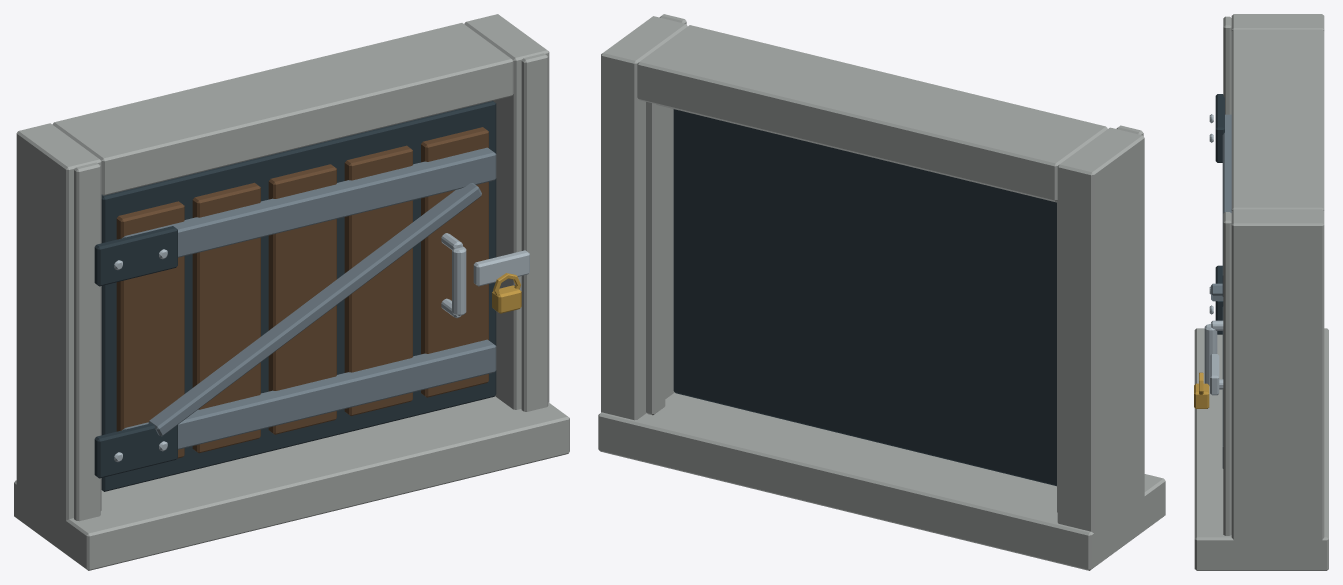
Rendered from b12_foundation_crawlspace_hatch.glb.
3 renders of one model, left to right at view 1: azimuth 30°, elevation 25°; view 2: azimuth 150°, elevation 25°; view 3: azimuth 270°, elevation 25°, orthographic. The views are drawn at different scales.
Parts seen in each view (by area): view 1: b12_foundation_crawlspace_hatch; view 2: b12_foundation_crawlspace_hatch; view 3: b12_foundation_crawlspace_hatch.
Part boxes in pixels (x1,y1,x2,y2): b12_foundation_crawlspace_hatch: [14, 14, 569, 570]; b12_foundation_crawlspace_hatch: [598, 14, 1165, 570]; b12_foundation_crawlspace_hatch: [1194, 14, 1328, 570].
Bounding box in the file's own units: 1.08 × 0.83 × 0.2915.
